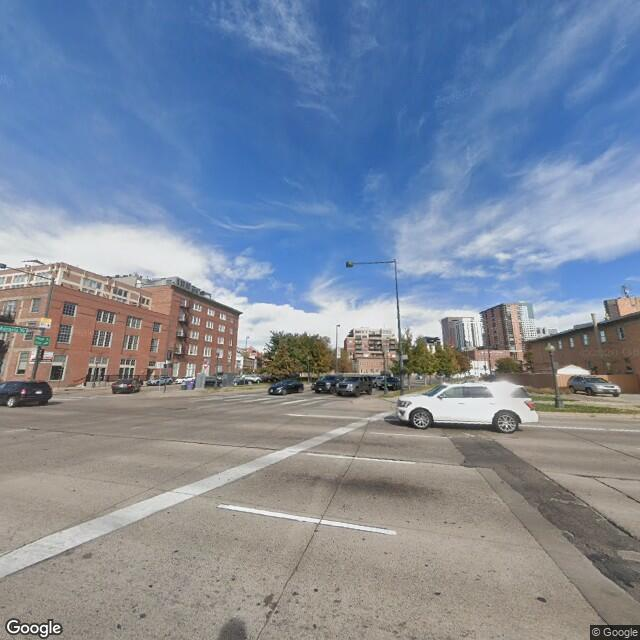lamp: (342, 256, 407, 390)
